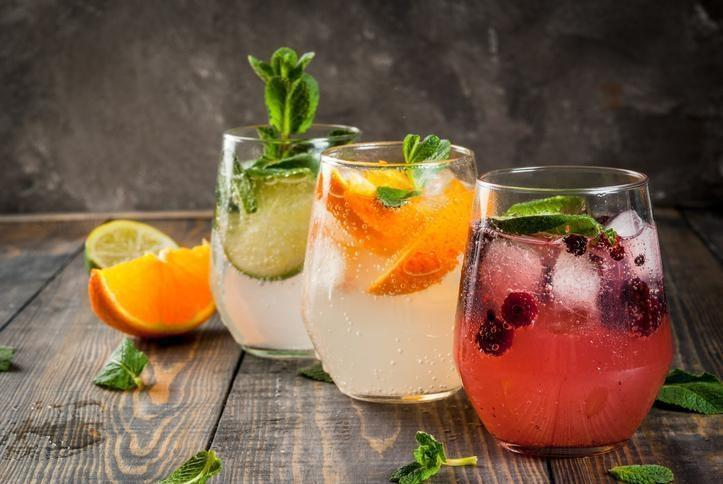glass-normal: (453, 165, 673, 458), (299, 139, 479, 403), (209, 121, 361, 368)
